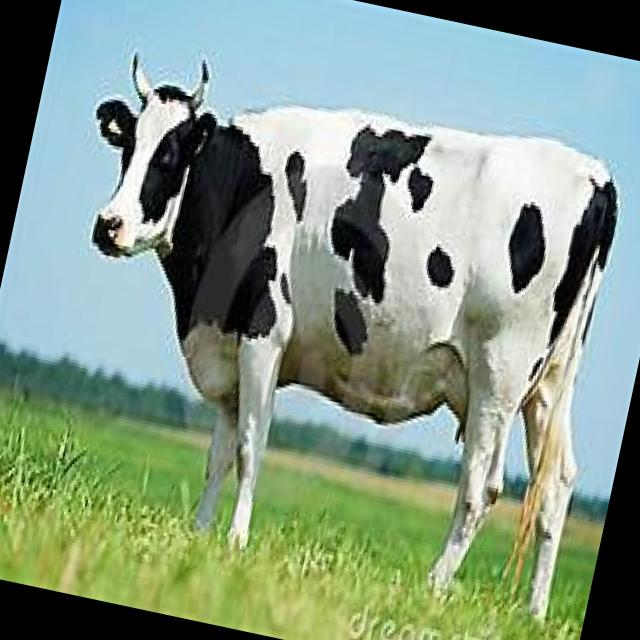animal: (8, 40, 640, 628)
